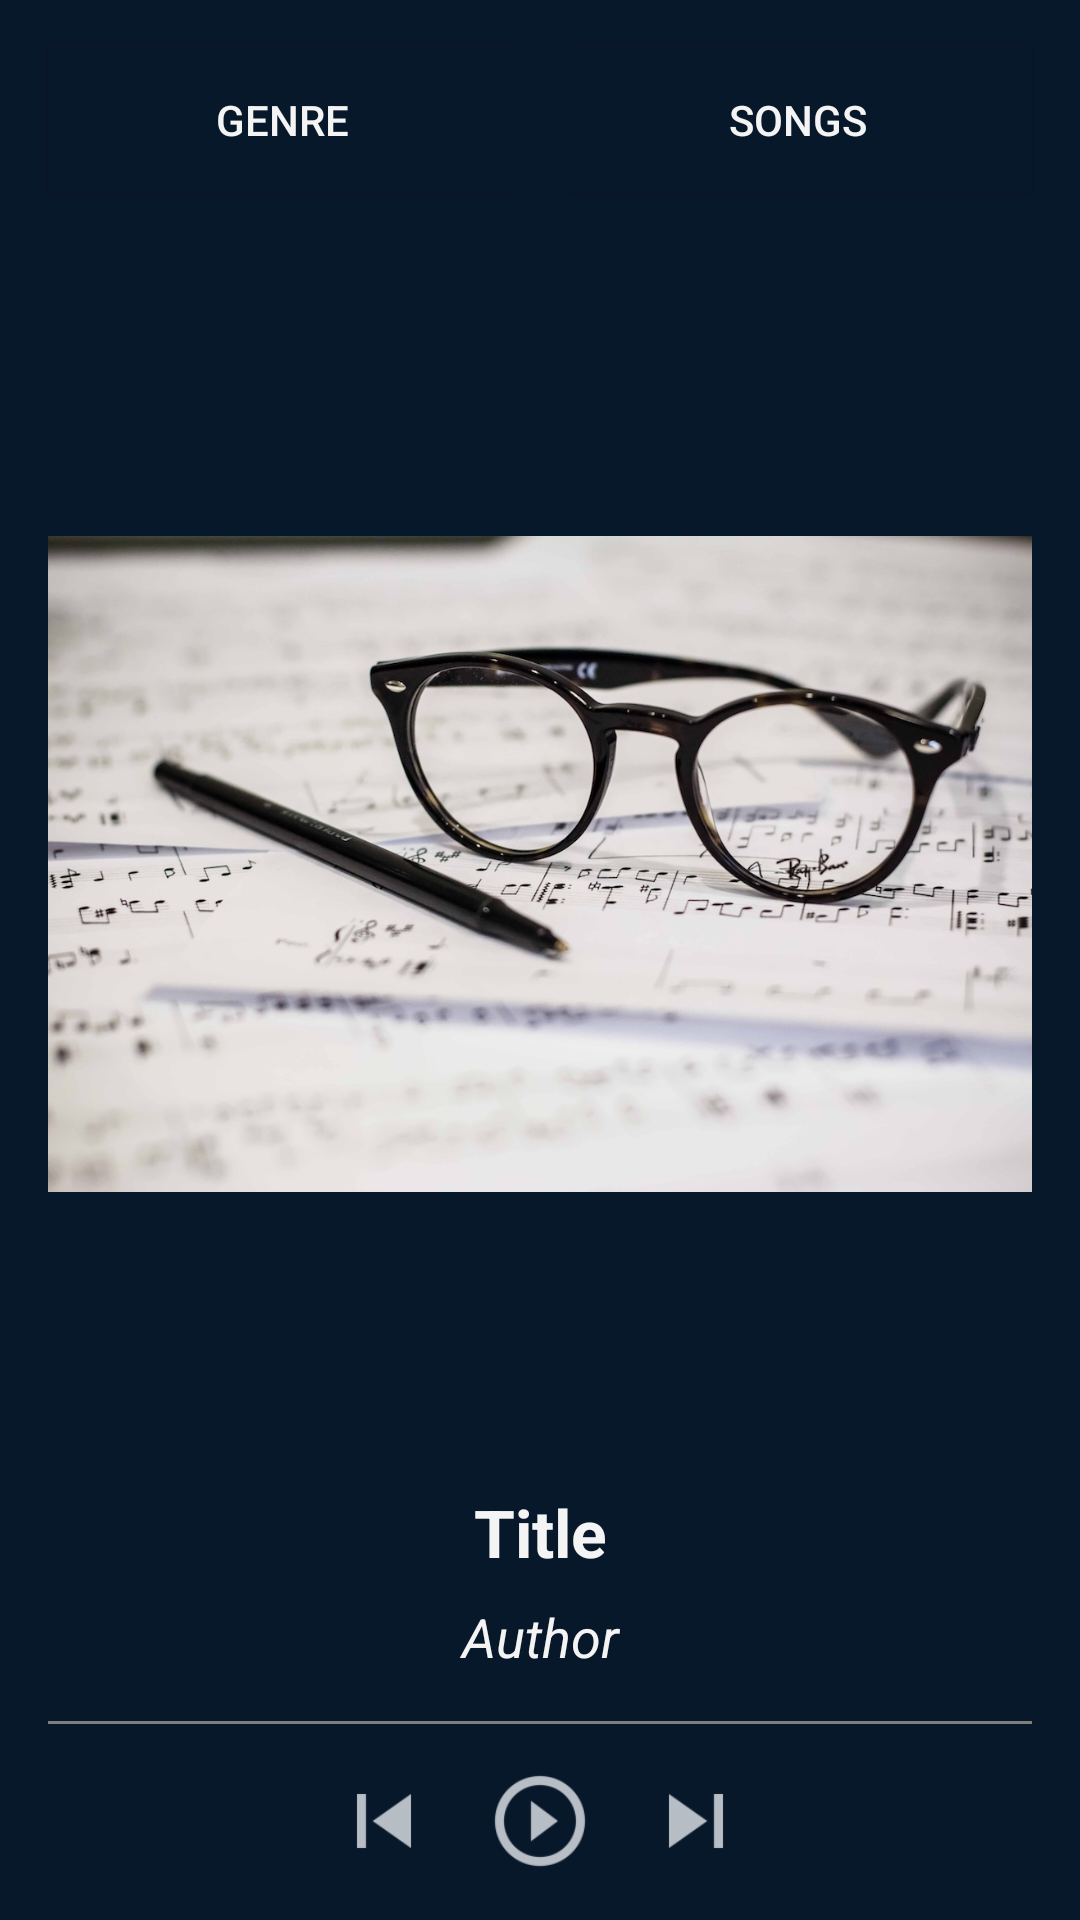

Point at icon controls on the screen. Image size 1080px×1920px, points as point (x, y).
next: point (696, 1821)
play: point (540, 1821)
previous: point (384, 1821)
